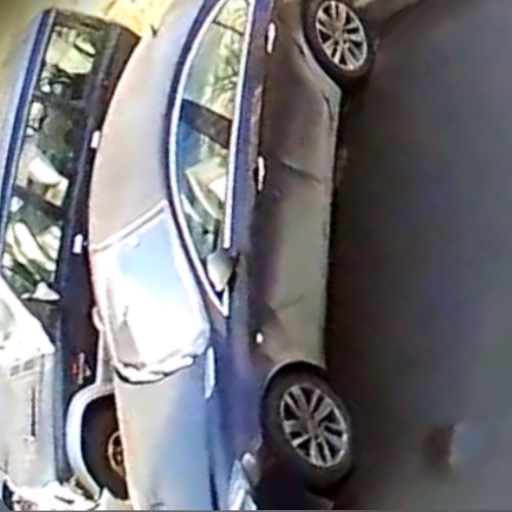Car: (82, 3, 364, 511), (0, 4, 153, 509)
